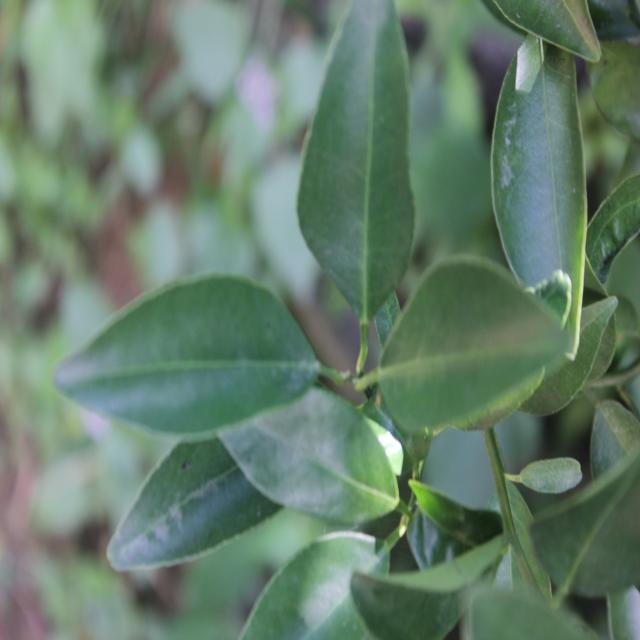healthy: (55, 274, 330, 439), (298, 6, 414, 311), (380, 254, 563, 433), (497, 38, 584, 342), (240, 407, 402, 517), (352, 538, 507, 640)
